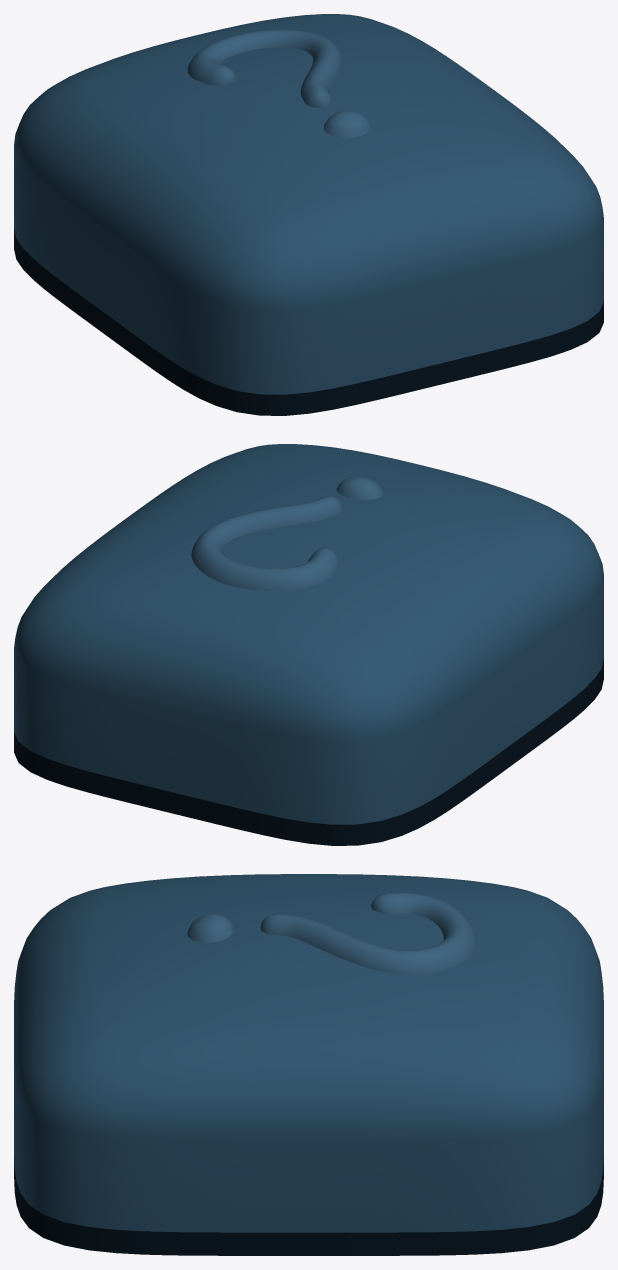
Rendered from block_question.glb.
3 renders of one model, top to bottom at view 1: azimuth 30°, elevation 25°; view 2: azimuth 150°, elevation 25°; view 3: azimuth 270°, elevation 25°, orthographic. The views are drawn at different scales.
Parts seen in each view (by area): view 1: block, hook, dot; view 2: block, hook, dot; view 3: block, hook, dot.
Part boxes in pixels (left/top/right/bottom): block: left=14, top=14, right=603, bottom=415; hook: left=187, top=29, right=343, bottom=107; dot: left=324, top=110, right=370, bottom=138; block: left=14, top=444, right=603, bottom=845; hook: left=191, top=496, right=342, bottom=590; dot: left=336, top=476, right=383, bottom=499; block: left=14, top=874, right=603, bottom=1255; hook: left=260, top=892, right=477, bottom=974; dot: left=187, top=913, right=233, bottom=942.
Size of the model in its own units: 22 by 10.86 by 25.2.
